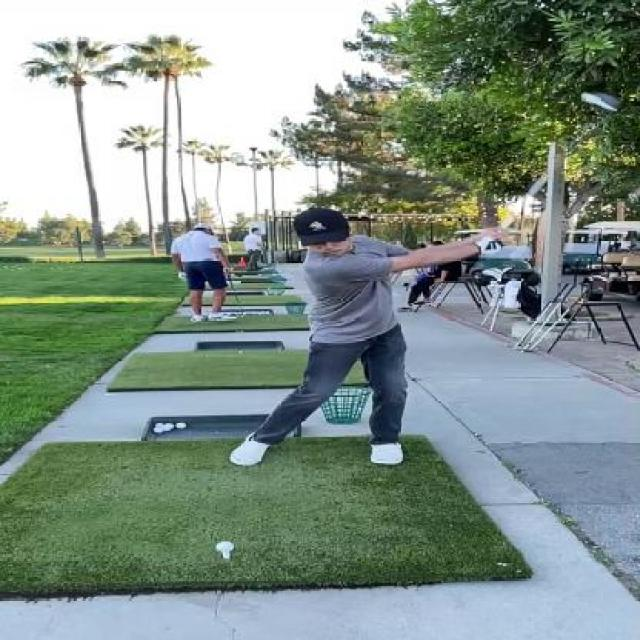club head: (573, 88, 624, 121)
